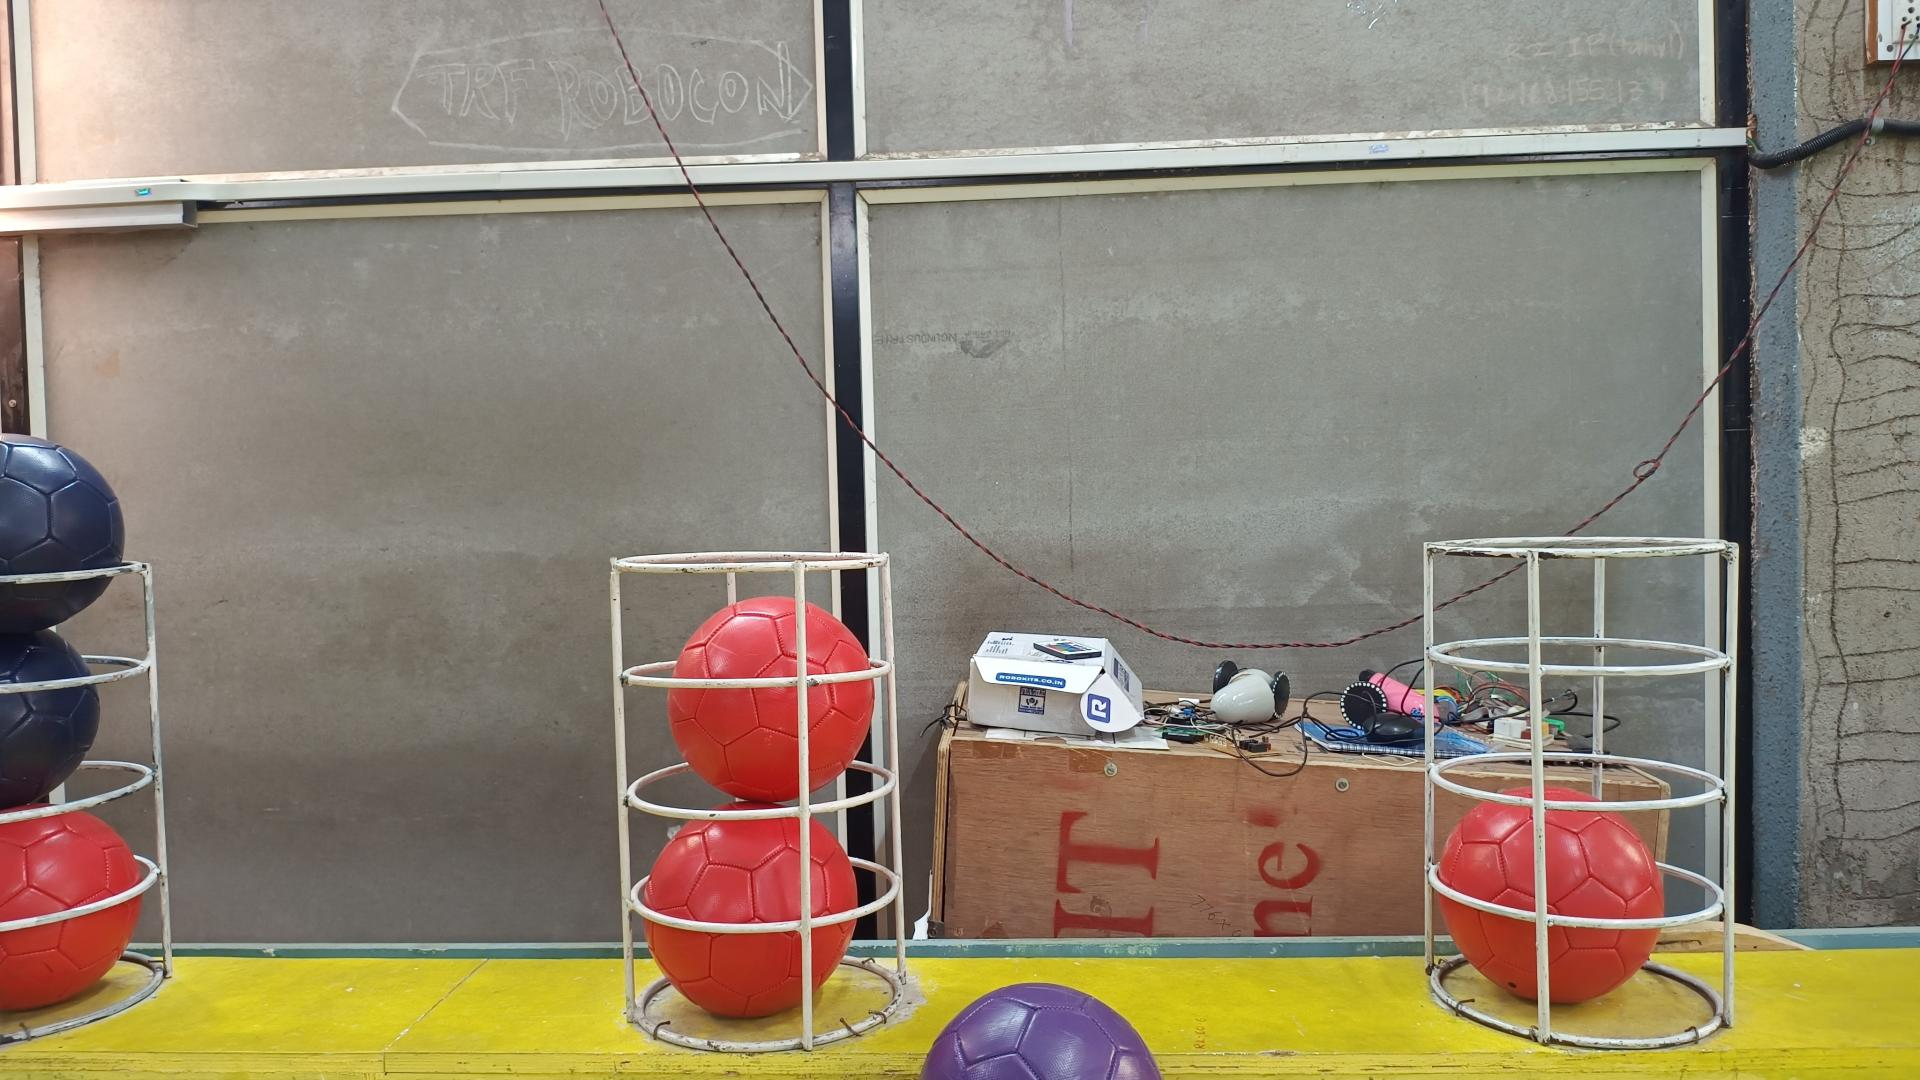dhoka: (0, 435, 124, 634), (0, 630, 102, 810)
laale: (1436, 783, 1665, 1005), (641, 814, 858, 1021), (667, 596, 874, 803), (0, 810, 146, 1009)
